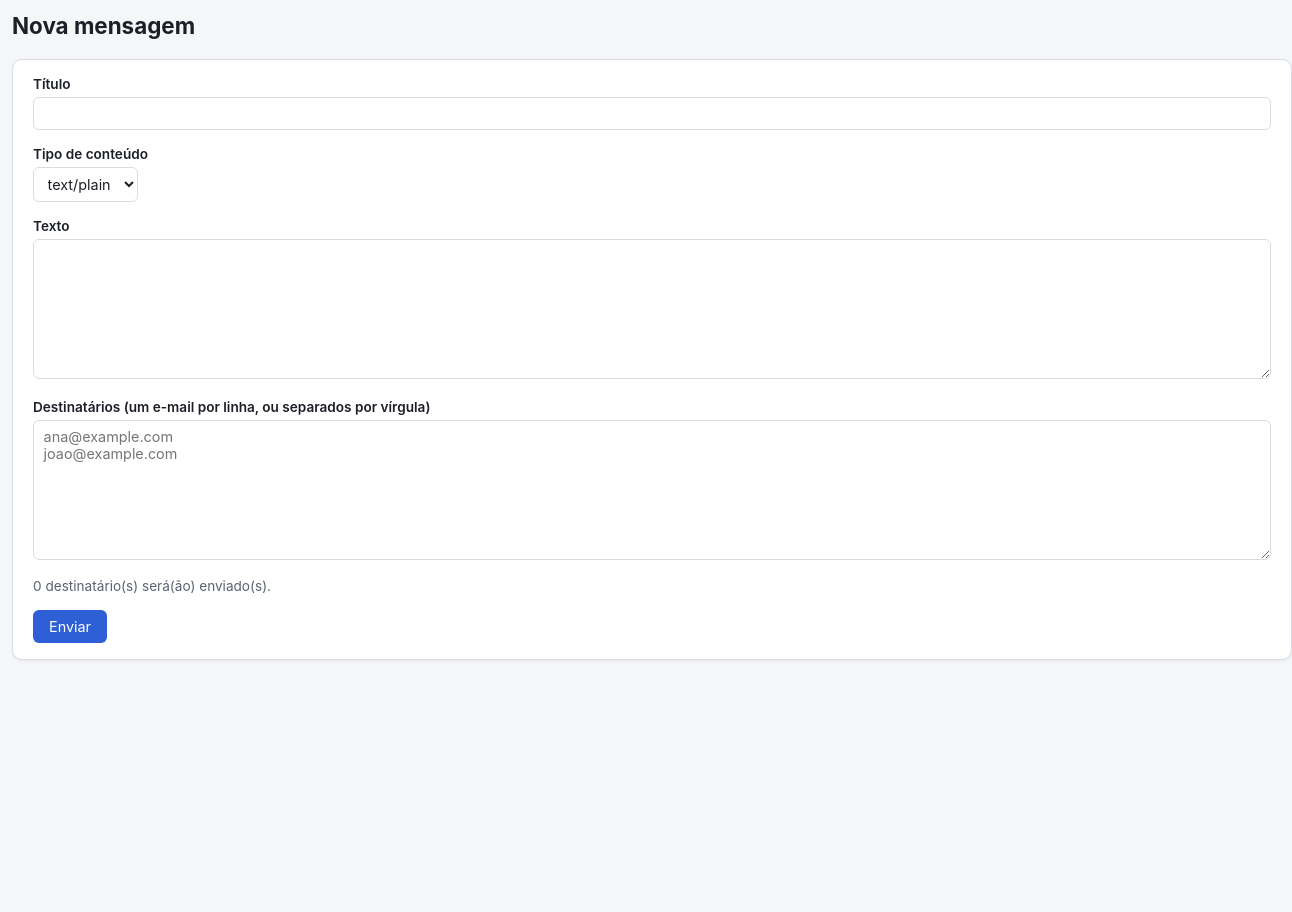
Test: Compose page › shows validation errors when submitting an empty form
Step 1. Click the button "Enviar" → (70, 626), box [33, 610, 107, 642]
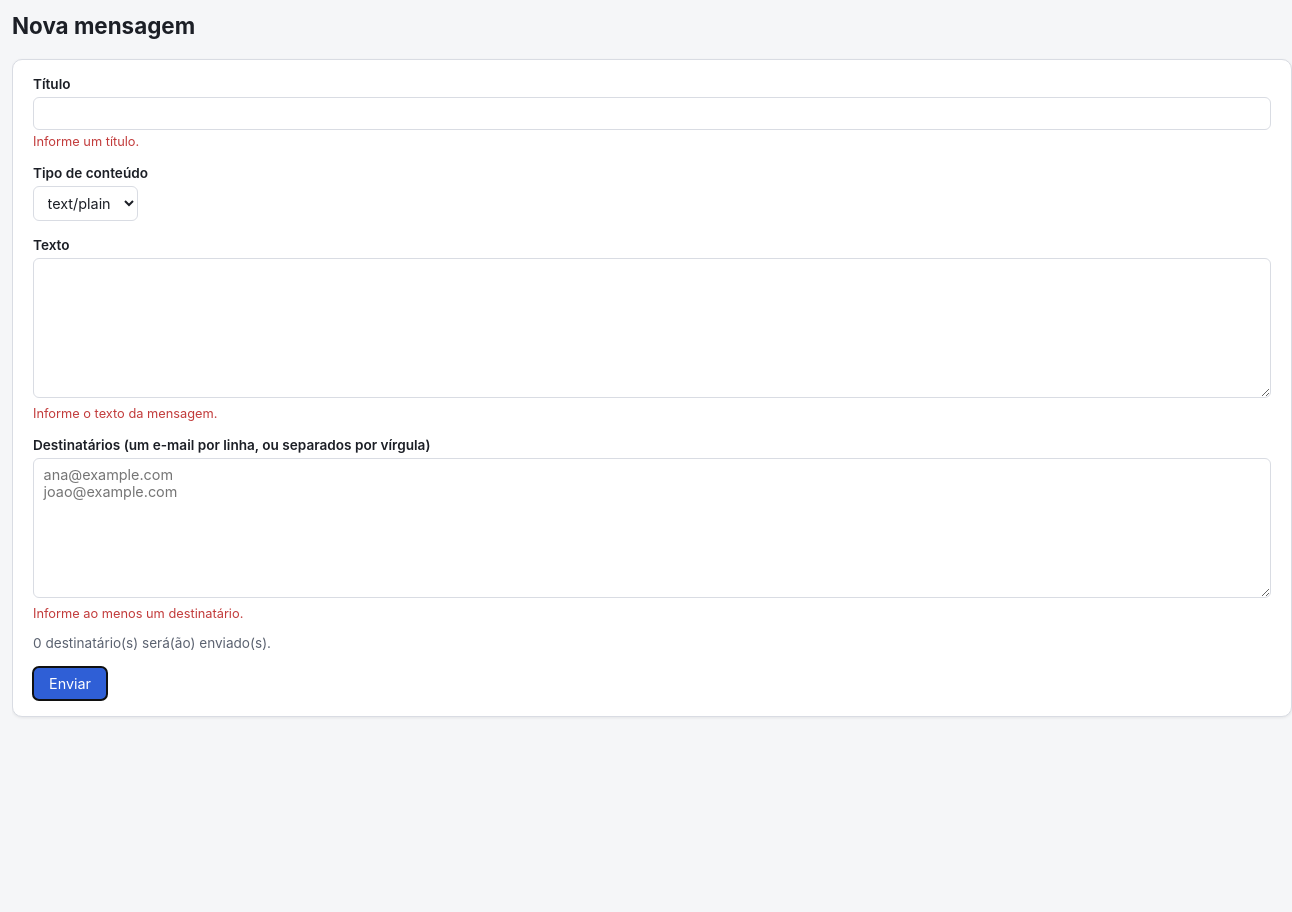
Check: the text "Informe um título." is shown, box [33, 134, 139, 149]
Check: the text "Informe o texto da mensagem." is shown, box [33, 406, 217, 421]
Check: the text "Informe ao menos um destinatário." is shown, box [33, 606, 243, 621]
